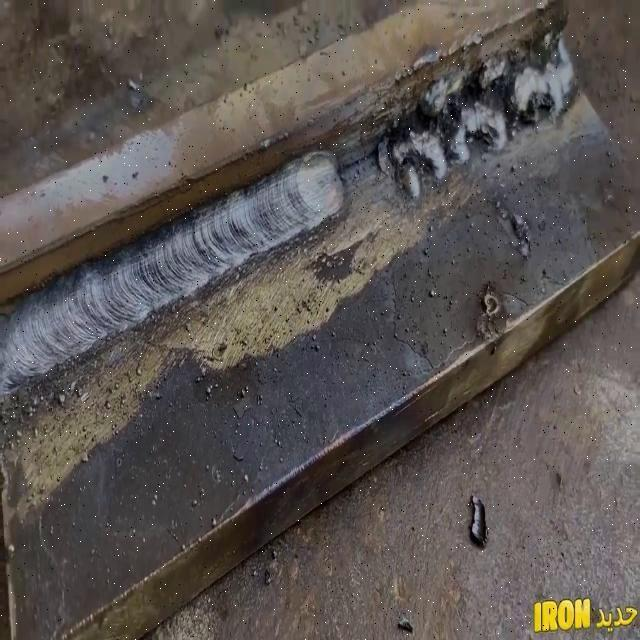Bad Welding: (390, 9, 587, 217)
Good Welding: (0, 143, 348, 410)
